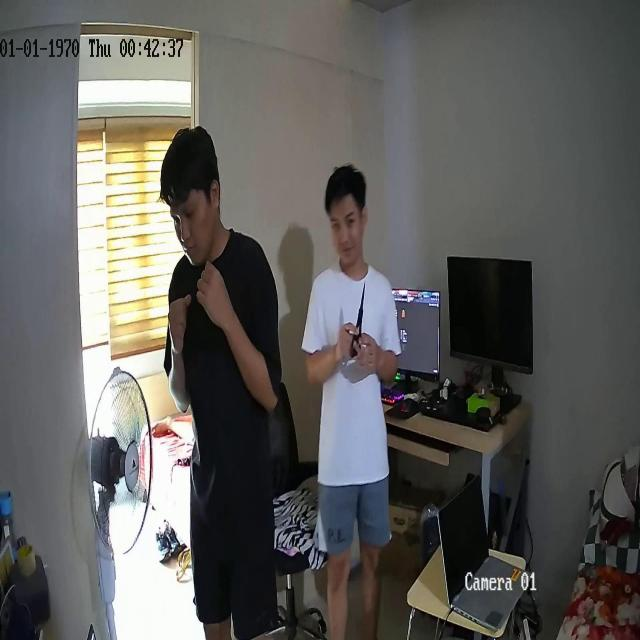scissor: (349, 282, 365, 356)
